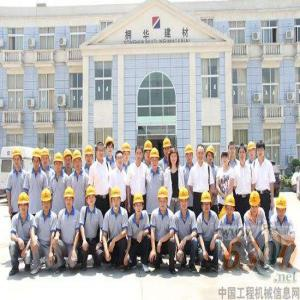none: (256, 139, 267, 162), (95, 142, 107, 163), (169, 147, 181, 168), (237, 143, 248, 165), (196, 144, 207, 165), (228, 141, 239, 161), (135, 144, 145, 164), (221, 149, 231, 169), (116, 151, 124, 170)
yellow: (249, 190, 262, 216), (40, 188, 53, 214), (158, 186, 170, 214), (110, 187, 123, 212), (276, 196, 289, 220), (18, 193, 30, 218), (64, 186, 76, 211), (200, 191, 213, 214), (179, 188, 192, 211), (225, 195, 237, 219), (133, 192, 144, 218), (86, 186, 98, 208), (63, 149, 74, 172), (53, 153, 64, 175), (85, 145, 96, 167), (184, 143, 195, 165), (41, 147, 51, 171), (72, 150, 83, 171), (144, 140, 154, 163), (150, 148, 160, 171), (12, 149, 23, 169), (32, 150, 42, 172), (163, 137, 173, 159), (105, 137, 115, 157), (248, 141, 258, 160), (123, 142, 131, 164), (206, 145, 215, 164)
